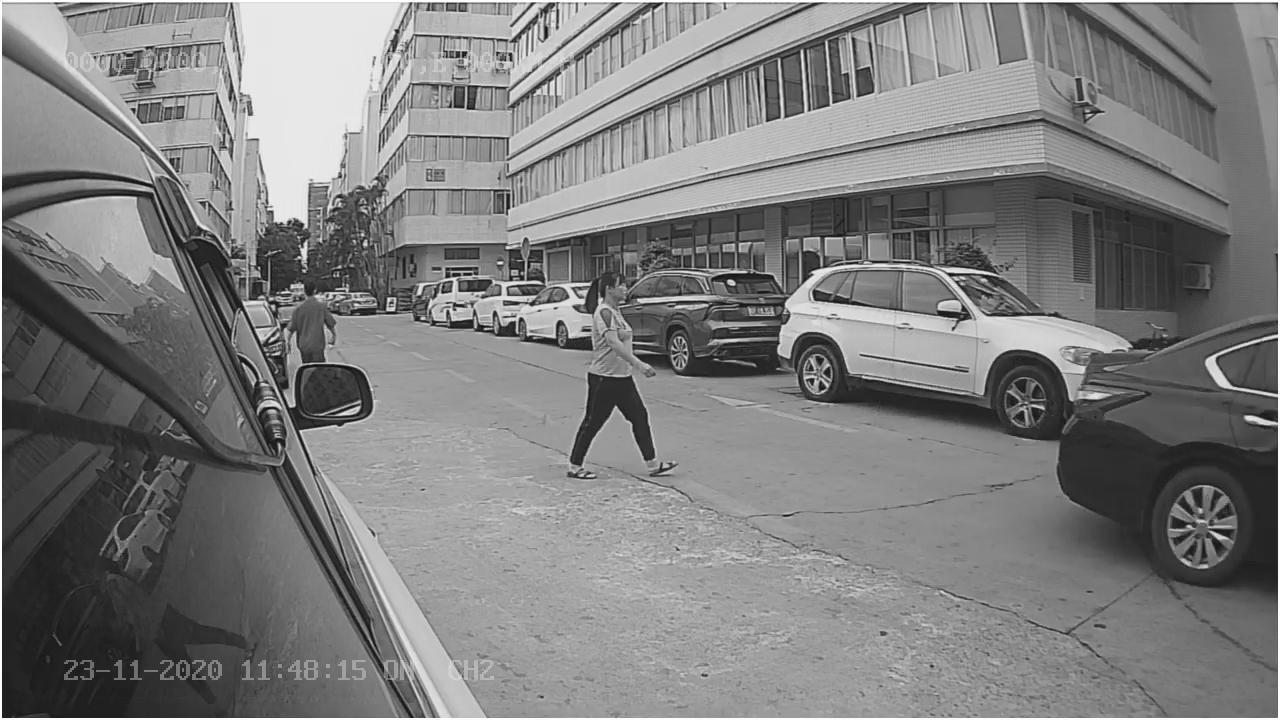person: (564, 270, 676, 477)
